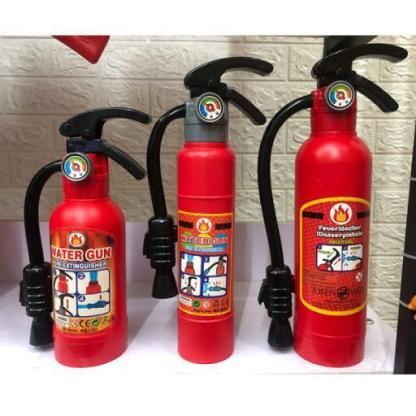Fire Extinguisher: (270, 41, 416, 367), (19, 98, 149, 377), (159, 62, 261, 374)
